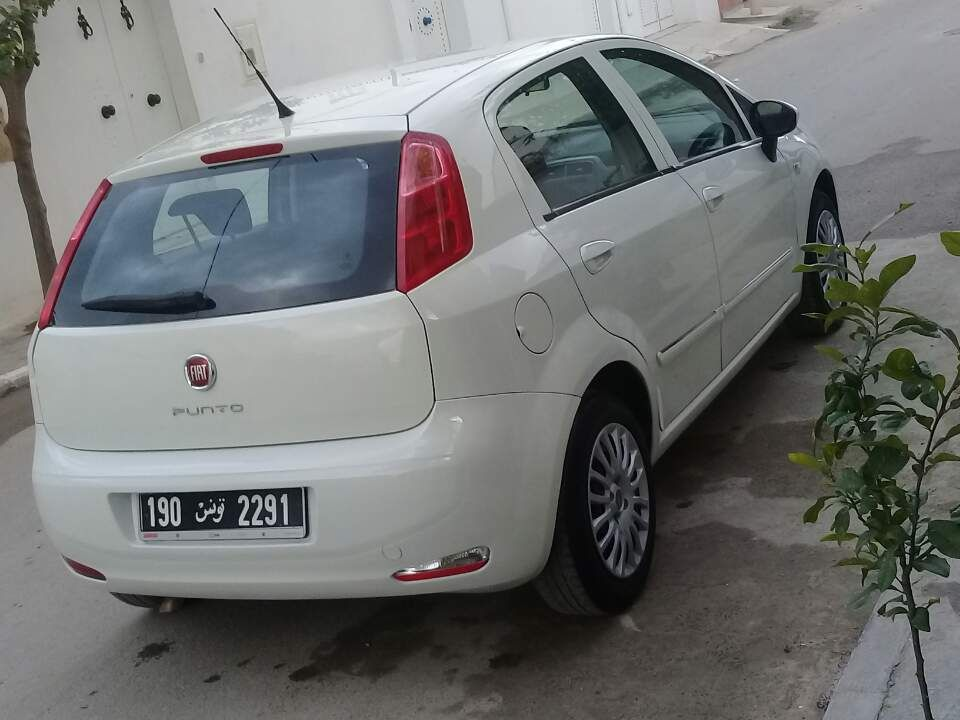LP: (139, 485, 304, 532)
